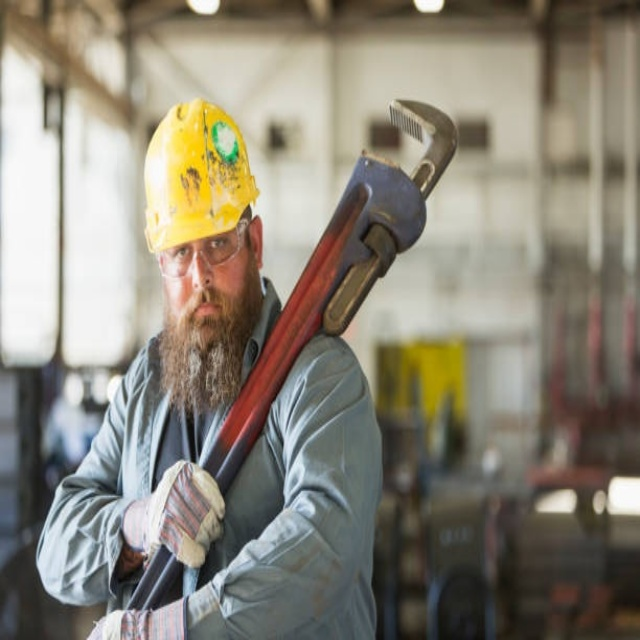Gafas: (156, 213, 250, 280)
Guantes: (125, 460, 225, 570), (103, 596, 189, 640)
Sin_mascara: (182, 284, 229, 337)
